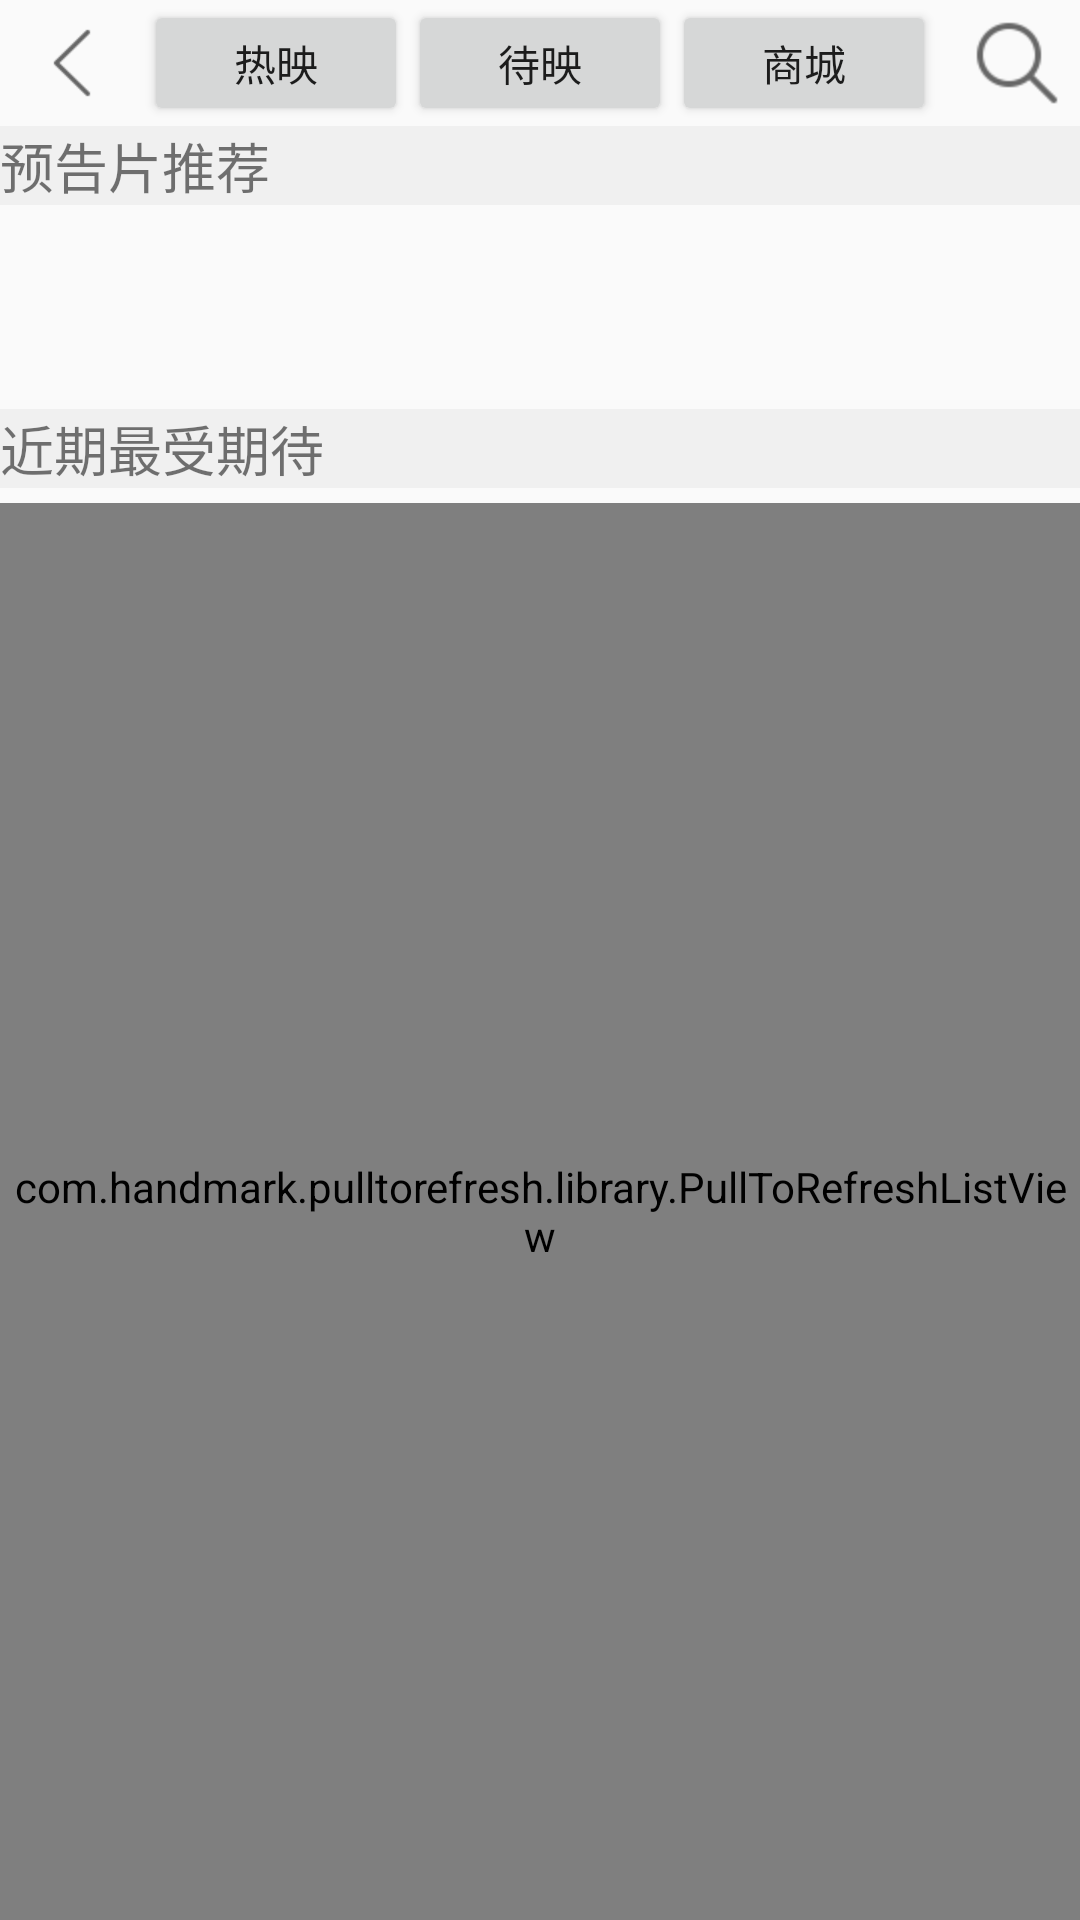

Where to tap for icons on this 1080×1920 app screen, as [x,y]:
location back: [72,63]
search: [1017,63]
